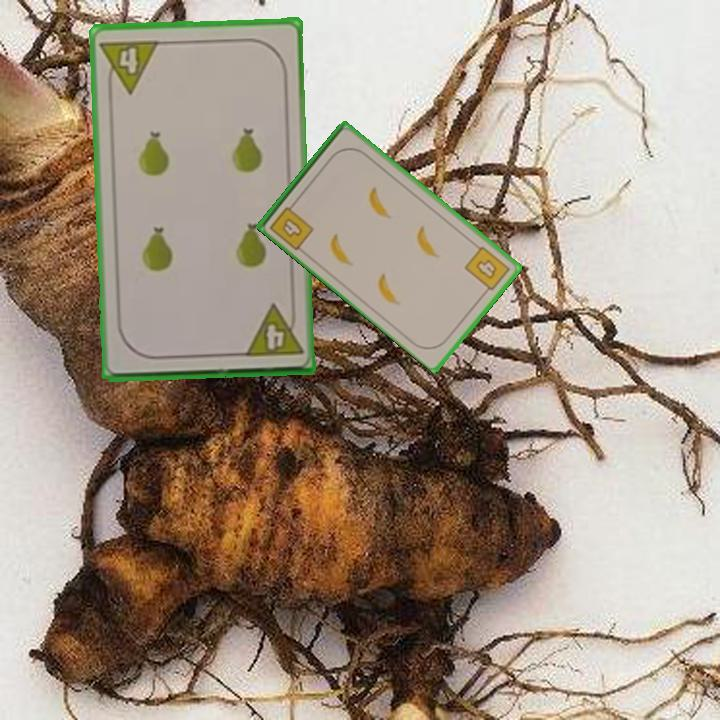4b: (461, 242, 513, 297), (266, 197, 317, 253)
4p: (97, 35, 162, 97), (240, 301, 305, 360)
